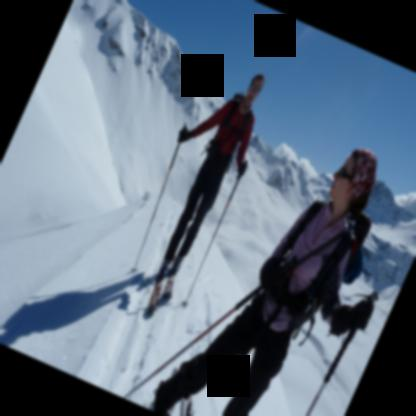backpack: (216, 96, 254, 176), (342, 211, 371, 284), (232, 90, 244, 100)
